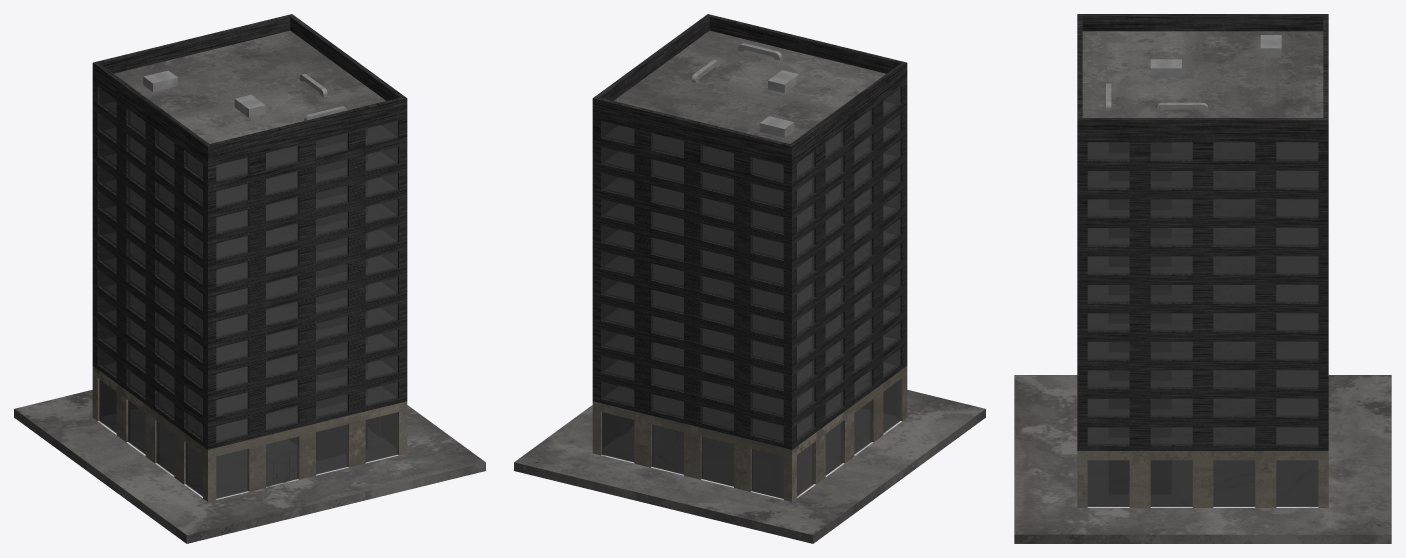
File: office_tower.glb
The picture shows the model from 3 angles, left to right: view 1: azimuth 30°, elevation 25°; view 2: azimuth 150°, elevation 25°; view 3: azimuth 270°, elevation 25°; orthographic projection. The views are drawn at different scales.
Visible parts, largest first — view 1: polySurface1, Layer12, CeilingRoof, GroundLayer, Window3 (×11), Window4 (×11), Window2 (×11), Layer11, Layer6, Layer2, Layer4, Layer5 (+14 smaller); view 2: polySurface1, Layer12, CeilingRoof, GroundLayer, Window8 (×11), Window5 (×11), Window7 (×11), Layer11, Layer8, Layer4, Layer10, Layer6 (+14 smaller); view 3: polySurface1, CeilingRoof, Layer12, Window13 (×11), Window14 (×11), Window15 (×11), Window16 (×11), GroundLayer, Layer10, Layer2, Layer4, Layer6 (+12 smaller).
Part boxes in pixels (bbox=[...]): polySurface1: bbox=[14, 390, 485, 543]; Layer12: bbox=[92, 14, 407, 188]; CeilingRoof: bbox=[114, 30, 385, 143]; GroundLayer: bbox=[92, 366, 407, 501]; Window3 (×11): bbox=[216, 157, 248, 442]; Window4 (×11): bbox=[365, 121, 397, 405]; Window2 (×11): bbox=[266, 145, 298, 430]; Layer11: bbox=[92, 105, 407, 214]; Layer6: bbox=[92, 235, 407, 345]; Layer2: bbox=[92, 340, 407, 449]; Layer4: bbox=[92, 287, 407, 397]; Layer5: bbox=[92, 261, 407, 371]; polySurface1: bbox=[514, 390, 985, 543]; Layer12: bbox=[592, 14, 907, 188]; CeilingRoof: bbox=[614, 30, 885, 143]; GroundLayer: bbox=[592, 366, 907, 501]; Window8 (×11): bbox=[751, 157, 783, 442]; Window5 (×11): bbox=[602, 121, 634, 405]; Window7 (×11): bbox=[701, 145, 733, 430]; Layer11: bbox=[592, 105, 907, 214]; Layer8: bbox=[592, 183, 907, 293]; Layer4: bbox=[592, 287, 907, 397]; Layer10: bbox=[592, 131, 907, 240]; Layer6: bbox=[592, 235, 907, 345]; polySurface1: bbox=[1014, 375, 1391, 543]; CeilingRoof: bbox=[1082, 31, 1323, 117]; Layer12: bbox=[1077, 14, 1328, 166]; Window13 (×11): bbox=[1087, 142, 1129, 445]; Window14 (×11): bbox=[1150, 142, 1192, 445]; Window15 (×11): bbox=[1213, 142, 1255, 445]; Window16 (×11): bbox=[1276, 142, 1318, 445]; GroundLayer: bbox=[1077, 451, 1328, 507]; Layer10: bbox=[1077, 194, 1328, 223]; Layer2: bbox=[1077, 422, 1328, 450]; Layer4: bbox=[1077, 365, 1328, 393]; Layer6: bbox=[1077, 308, 1328, 336].
Size of the model in its own units: 0.36 by 0.4184 by 0.36.
Materials: 8 (8 with a texture image).
